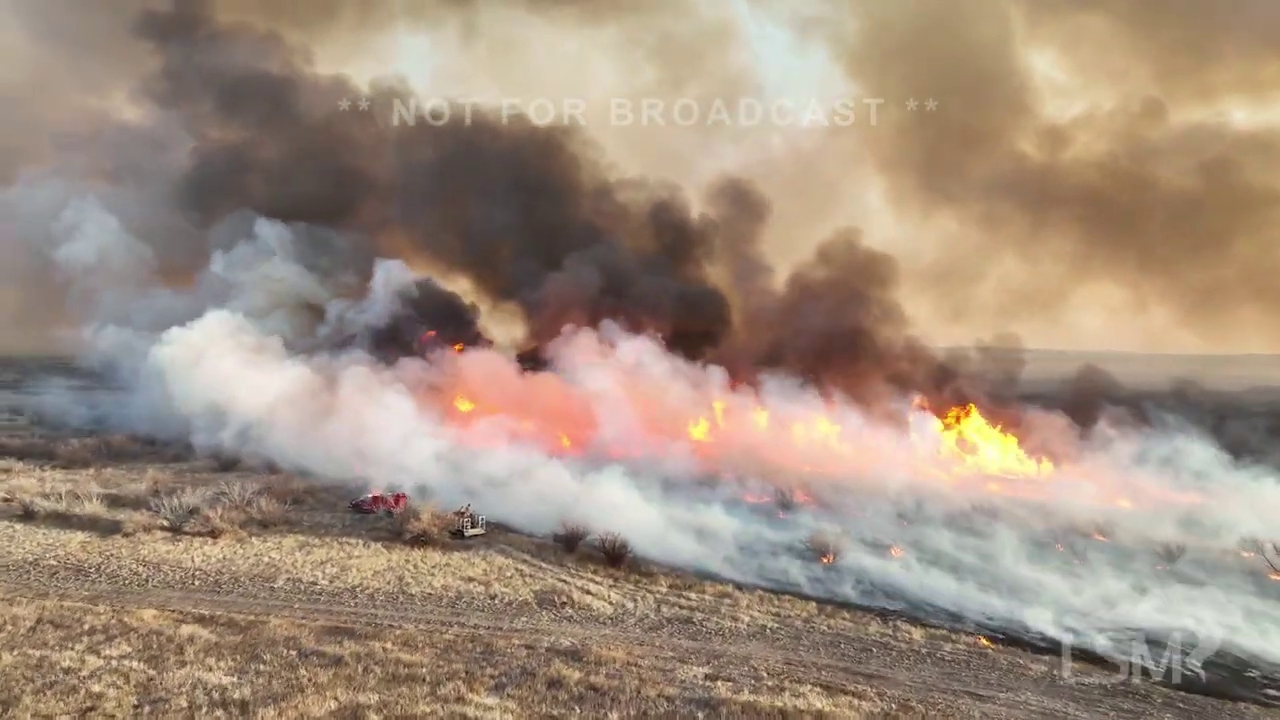forest_fire: (913, 402, 1053, 476), (687, 400, 726, 442), (792, 416, 841, 446), (751, 407, 768, 430), (454, 395, 475, 412)
